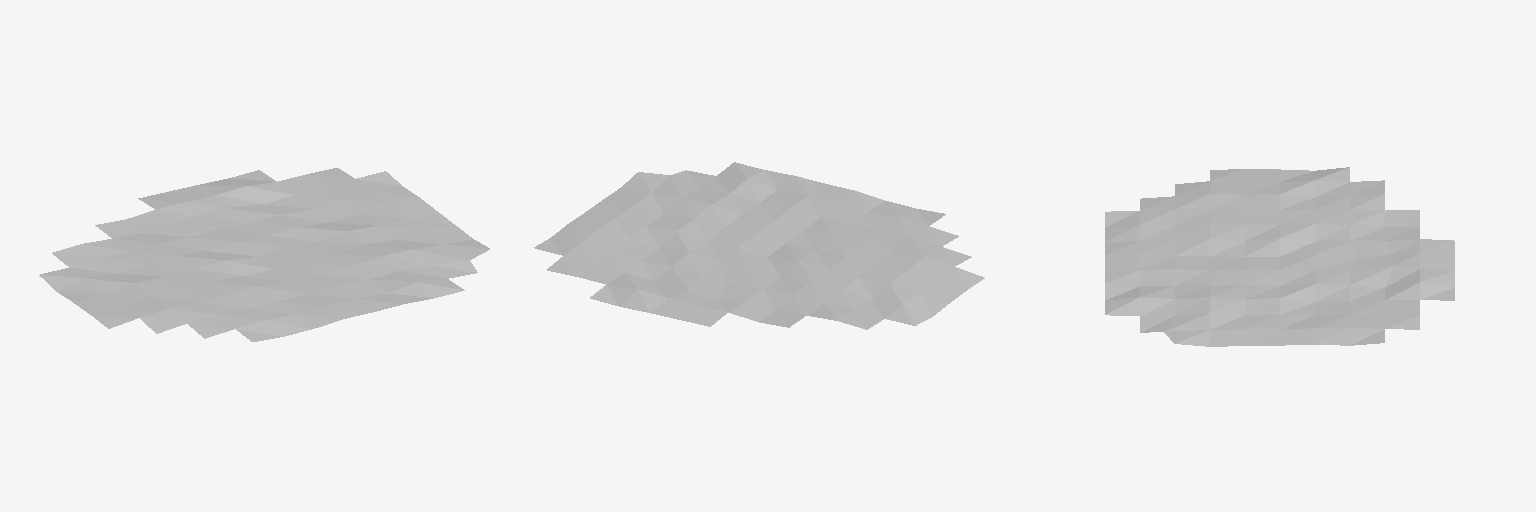
Rendered from Water.obj.
3 views of the same model, side by side, from view 1: azimuth 30°, elevation 25°; view 2: azimuth 150°, elevation 25°; view 3: azimuth 270°, elevation 25° (orthographic).
Parts seen in each view (by area): view 1: Water; view 2: Water; view 3: Water.
Boxes of the visible parts, x1,y1,x2,y2 form: Water: [39, 168, 489, 341]; Water: [534, 162, 984, 329]; Water: [1105, 167, 1454, 346].
Size of the model in its own units: 0.5819 by 0.0112 by 0.4847.